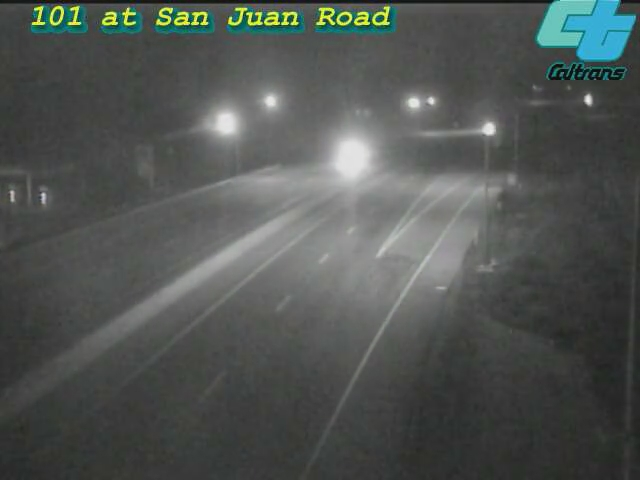vehicle: (329, 130, 379, 180), (461, 104, 511, 154)
